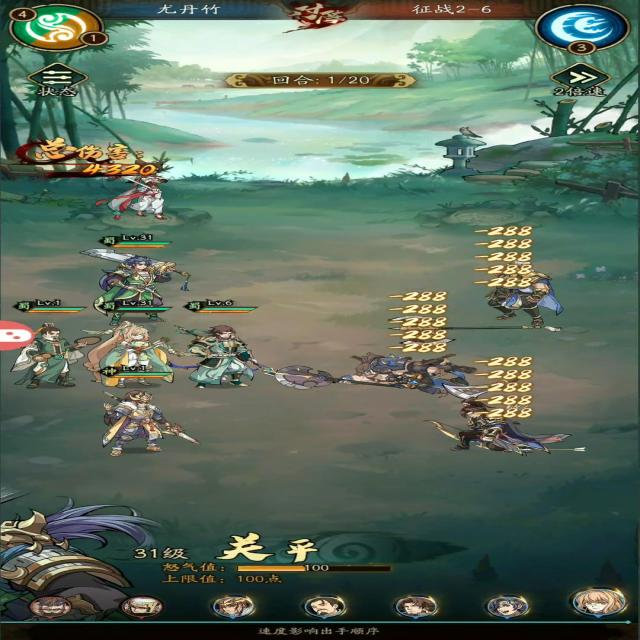hint-guide: (237, 617, 411, 640)
operation-fightspeed: (547, 60, 618, 101)
operation-status: (20, 61, 100, 102)
